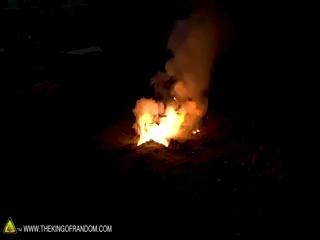Fire: (132, 97, 190, 146)
